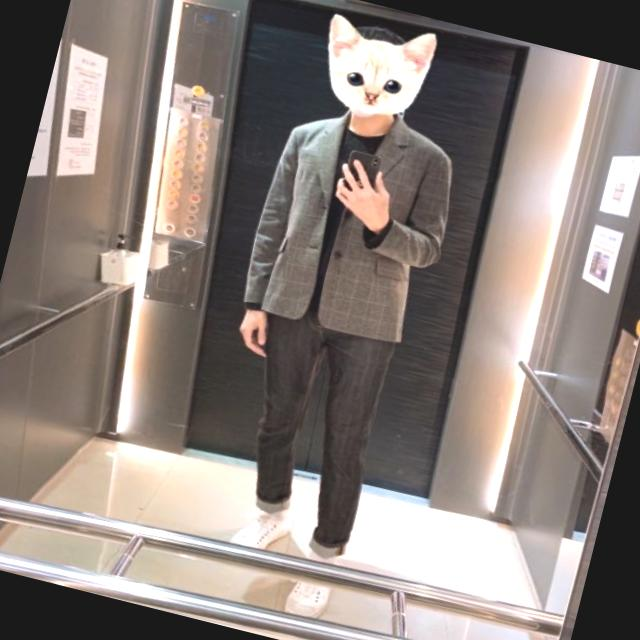blazer: (237, 88, 468, 350)
denimpants: (200, 270, 410, 564)
